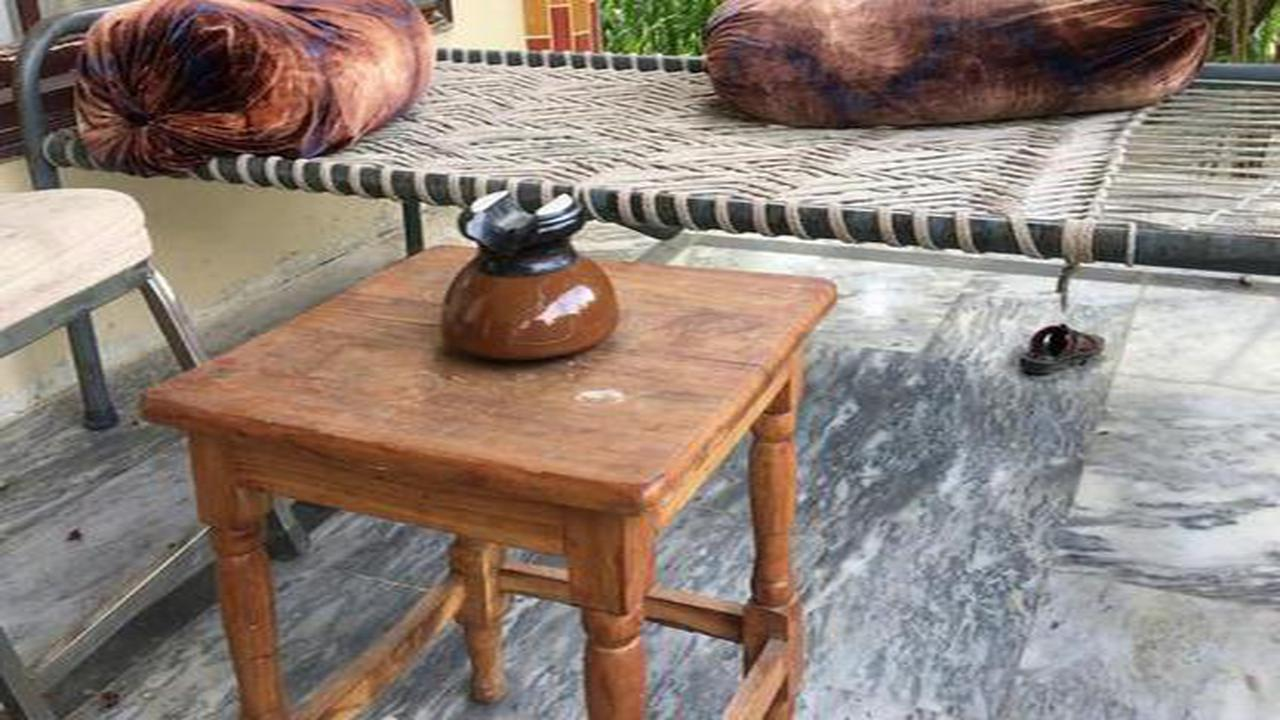insulator_pin: (422, 172, 625, 374)
